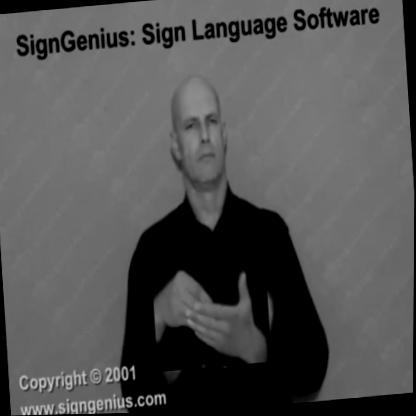Expensive: (150, 248, 273, 373)
